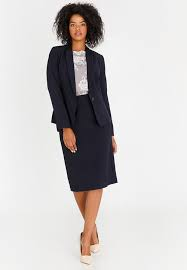F_tailored skirt: (56, 89, 122, 193)
